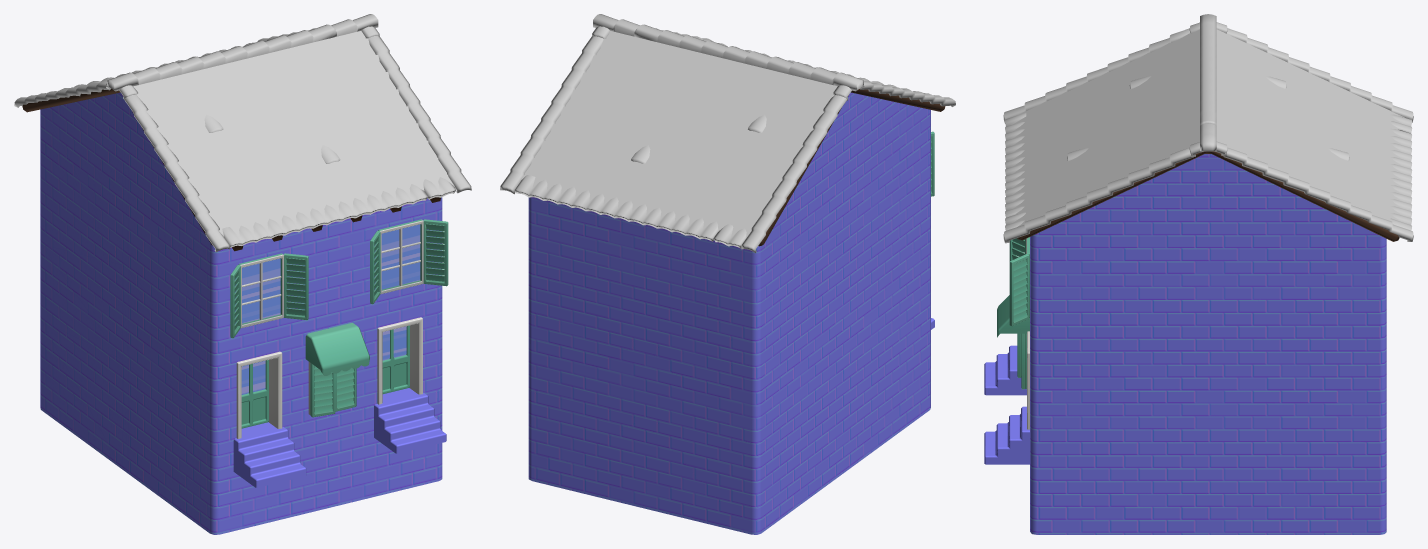
The model's file is Building1_Green.fbx.
The picture shows the model from 3 angles, left to right: view 1: azimuth 30°, elevation 25°; view 2: azimuth 150°, elevation 25°; view 3: azimuth 270°, elevation 25°; orthographic projection.
Parts seen in each view (by area): view 1: Building1_Green; view 2: Building1_Green; view 3: Building1_Green.
Part boxes in pixels (<box>): Building1_Green: <box>14,14,471,534</box>; Building1_Green: <box>500,14,955,534</box>; Building1_Green: <box>984,14,1413,534</box>.
Bounding box in the file's own units: 868 × 1242 × 1203.
